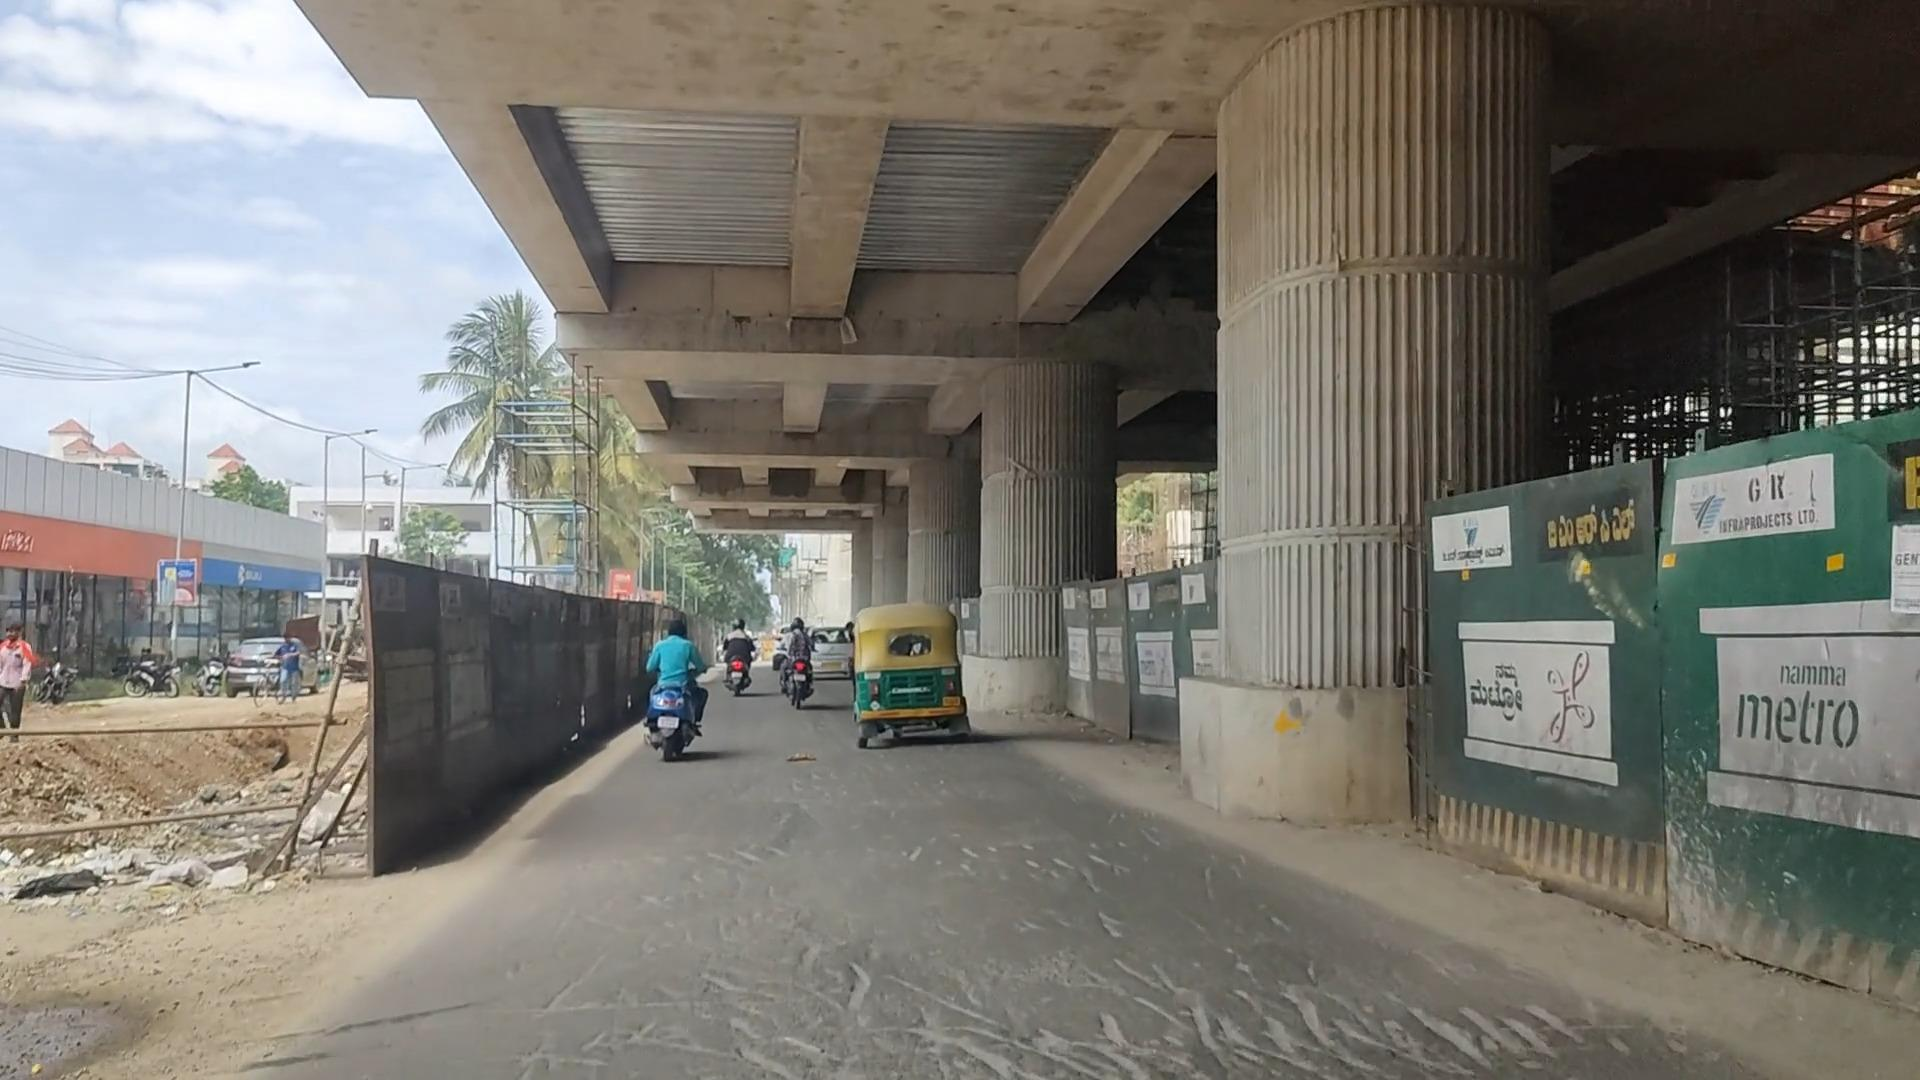LMV: (859, 602, 975, 759), (643, 607, 703, 767), (782, 611, 830, 739)
RoadDamages: (488, 907, 1594, 1075), (704, 778, 1243, 921)
